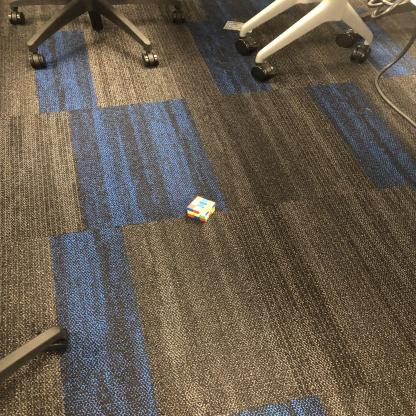UnsolvedCube: (186, 191, 218, 224)
